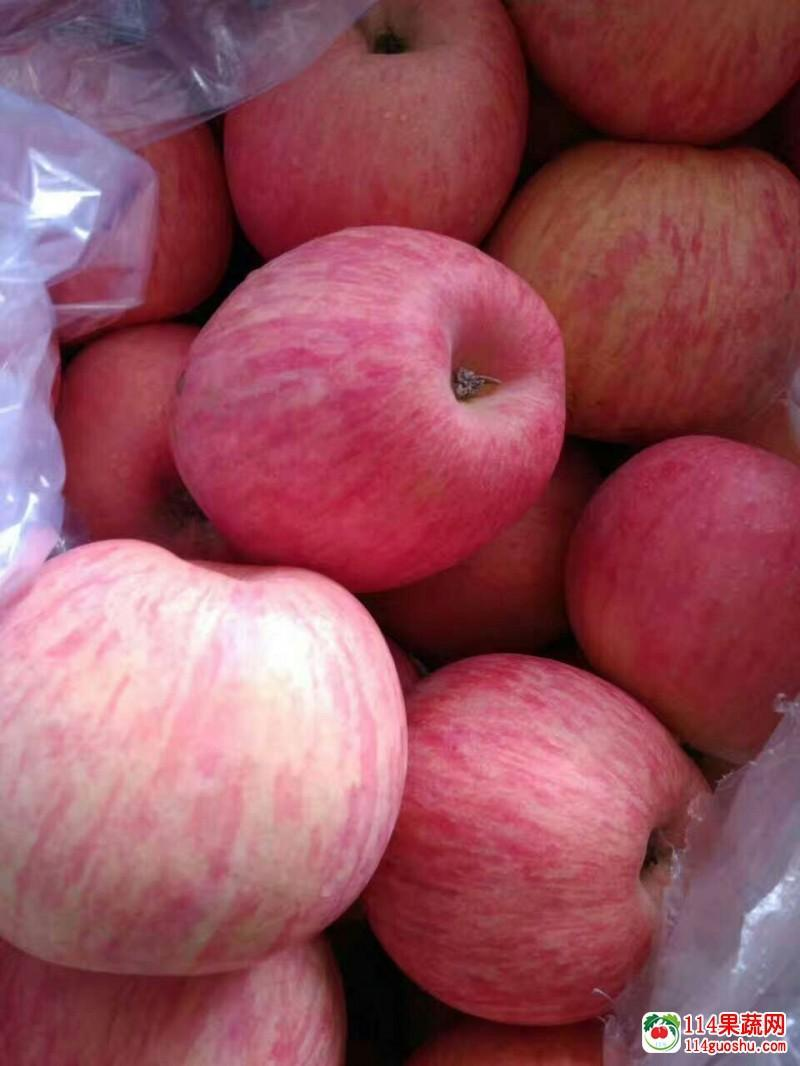apple: (1, 541, 407, 981), (176, 212, 575, 603), (346, 637, 700, 1027), (484, 127, 789, 448), (550, 425, 789, 753), (222, 5, 529, 258)
